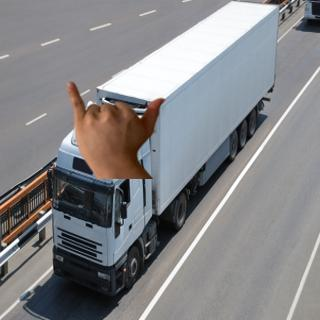HAVE: (56, 77, 172, 174)
